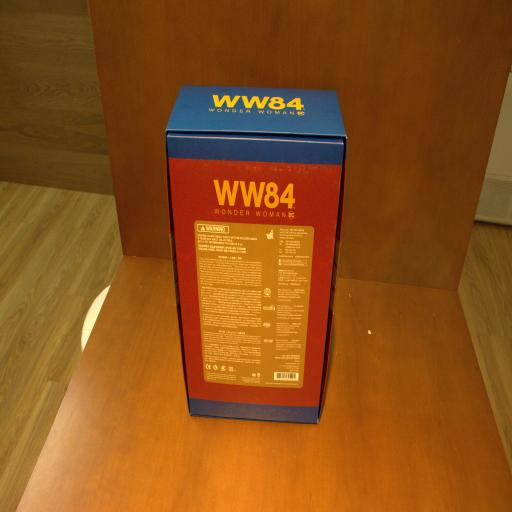WonderWoman: (164, 81, 348, 428)
